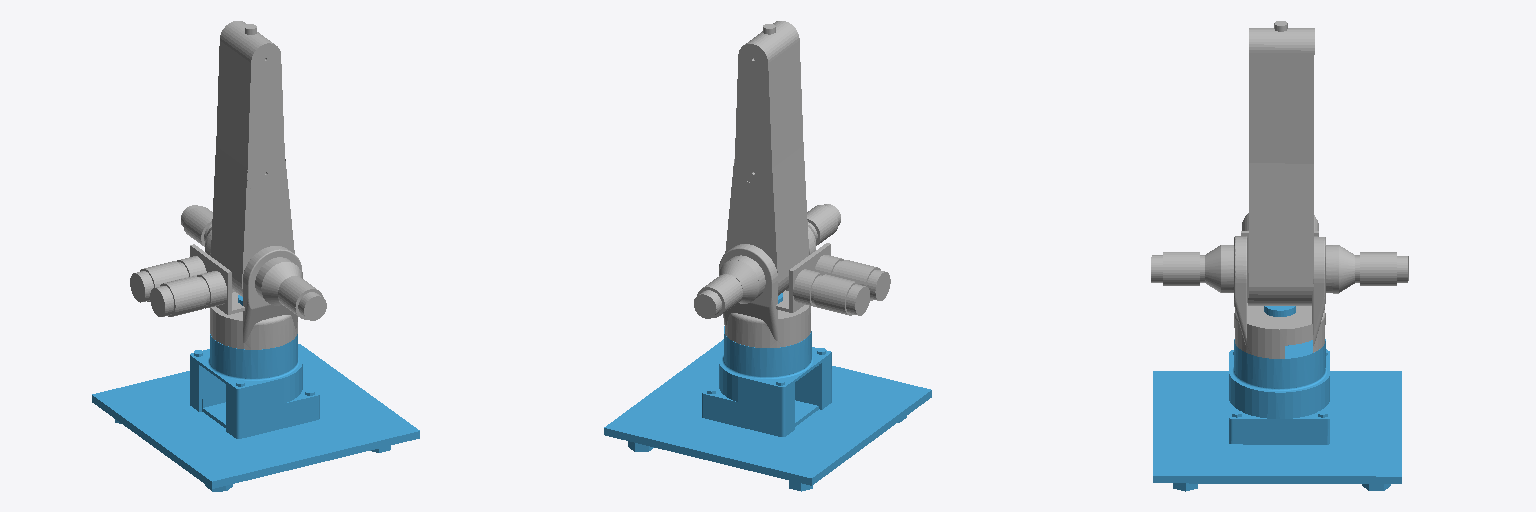
URDF robot description (RTB):
<?xml version="1.0"?>
<!-- roslaunch urdf_tutorial display.launch model:='$(find robotic_arm)/urdf/robotic.urdf'-->

<robot name="RTB">
    <link name="World"/>
    <!--BASE LINK-->
        <link name="base_link">
            <visual>
                <geometry>
                    <mesh filename="package://robotic_arm/stl/base_link.stl" scale="0.01 0.01 0.01" />
                </geometry>

                <material name="Black"/>
                <origin xyz="-1.9 1.85 0.0" rpy="7.85 0 0"/>
            </visual>
 
            <collision>
                <geometry>
                    <mesh filename="package://robotic_arm/stl/base_link.stl" scale="0.01 0.01 0.01" />
                </geometry>
                <origin xyz="-1.9 1.85 0.0" rpy="7.85 0 0"/>
            </collision>
            <inertial>
                <mass value="1"/>
                <origin xyz="-1.9 1.85 0.0" rpy="7.85 0 0"/>
                <inertia ixx="0.0" izz="0.0" iyy="0.0" ixy="0.0" ixz="0.0"  iyz="0.0" /> 
                
            </inertial>
        </link>
 
            <joint name="base_link" type="fixed">
                <parent link="World"/>
                <child link="base_link"/>
            </joint>
     <!--ONE LINK-->
        <link name="One">
            <visual>
                <geometry>
                    <mesh filename="package://robotic_arm/stl/link1.stl" scale="0.01 0.01 0.01" />
                </geometry>

                <material name="Silver">
                <color rgba ="0.75 0.75 0.75 1.0"/>
                </material>
                <!-- Its the relation between joint and the body in distance -->

                <origin xyz="-1.95 -1.98 0" rpy="7.85 0 7.85"/>
            </visual>
 
            <collision>
                <geometry>
                    <mesh filename="package://robotic_arm/stl/link1.stl" scale="0.01 0.01 0.01" />
                </geometry>
                <origin xyz="-1.95 -1.98 0" rpy="7.85 0 7.85"/>
            </collision>
            <inertial>
                <mass value="1"/>
                <origin xyz="-1.95 -1.98 0" rpy="7.85 0 7.85"/>
                <inertia ixx="0.0" izz="0.0" iyy="0.0" ixy="0.0" ixz="0.0"  iyz="0.0" /> 
            </inertial>
        </link>
 
            <joint name="One" type="revolute">
                <parent link="base_link" />
                <child link="One" />
                <limit effort="30" velocity="1.0" lower="-3.14" upper="3.14" />
                <origin xyz="0 0 1.79" rpy="0 0 0" />
                <axis xyz="0 0 1" />
            </joint>   

<!--Two LINK -->
        <link name="Two">
            <visual>
                <geometry>
                    <mesh filename="package://robotic_arm/stl/link2.stl" scale="0.01 0.01 0.01" />
                </geometry>

                <material name="Silver">
                <color rgba ="0.75 0.75 0.75 1.0"/>
                </material>
                <origin xyz="-0.5 0.5 -0.56" rpy="7.85 0.0 0"/>
                <!-- Its the relation between joint and the body in distance -->
            </visual>
 
            <collision>
                <geometry>
                    <mesh filename="package://robotic_arm/stl/link2.stl" scale="0.01 0.01 0.01" />
                </geometry>
                <origin xyz="-0.5 0.5 -0.56" rpy="7.85 0.0 0"/>
            </collision>
            <inertial>
                <mass value="1"/>
                <origin xyz="-0.5 0.5 -0.56" rpy="7.85 0.0 0"/> 
                <inertia ixx="0.0" izz="0.0" iyy="0.0" ixy="0.0" ixz="0.0"  iyz="0.0" /> 
            </inertial>
        </link>
 
        <joint name="Two" type="revolute">
            <parent link="One" />
            <child link="Two" />
            <limit effort="30" velocity="1.0" lower="-3.14" upper="3.14" />
            <origin xyz="0 0 1.2" rpy="0 0 0" />
            <axis xyz="0 1 0" />
        </joint>

     <!--Three LINK-->
        <link name="Three">
            <visual>
                <geometry>
                    <mesh filename="package://robotic_arm/stl/link3.stl" scale="0.01 0.01 0.01" />
                </geometry>

                <material name="Silver">
                <color rgba ="0.75 0.75 0.75 1.0"/>
                </material>
                <origin xyz="-0.4 0.505 -0.38" rpy="7.85 0 0"/>
                <!-- Its the relation between joint and the body in distance -->
            </visual>
 
            <collision>
                <geometry>
                    <mesh filename="package://robotic_arm/stl/link3.stl" scale="0.01 0.01 0.01" />
                </geometry>
                <origin xyz="-0.4 0.505 -0.38" rpy="7.85 0 0"/>
            </collision>
            <inertial>
                <mass value="1"/>
                <origin xyz="-0.4 0.505 -0.38" rpy="7.85 0 0"/> 
                <inertia ixx="0.0" izz="0.0" iyy="0.0" ixy="0.0" ixz="0.0"  iyz="0.0" /> 
            </inertial>
    </link>
 
        <joint name="Three" type="revolute">
            <parent link="Two" />
            <child link="Three" />
            <limit effort="30" velocity="1.0" lower="-3.14" upper="3.14" />
            <origin xyz="0 0 1.8" rpy="0 0 0" />
            <axis xyz="0 1 0" />
        </joint>

     <!--Griper LINK-->
        <link name="Griper">
            <visual>
                <geometry>
                    <cylinder radius ="0.1" length="0.1" />
                </geometry>

                <material name="Silver">
                <color rgba ="0.75 0.75 0.75 1.0"/>
                </material>
                <origin xyz="0 0 0" rpy="0 0 0"/>
                <!-- Its the relation between joint and the body in distance -->
            </visual>
 
            <collision>
                <geometry>
                    <cylinder radius ="0.01" length="0.01" />
                </geometry>
                <origin xyz="0 0 0" rpy="0 0 0"/>
            </collision>
            <inertial>
                <mass value="1"/>
                <origin xyz="0 0 0" rpy="0 0 0"/> 
                <inertia ixx="0.0" izz="0.0" iyy="0.0" ixy="0.0" ixz="0.0"  iyz="0.0" /> 
            </inertial>
    </link> 
 
        <joint name="Griper" type="revolute">
            <parent link="Three" />
            <child link="Griper" />
            <limit effort="30" velocity="1.0" lower="-3.14" upper="3.14" />
            <origin xyz="-0.05 0 2.3" rpy="0 0 0" />
            <axis xyz="0 1 0" />
        </joint>   

</robot>

--- Facts derived from the render (not from the file) ---
The picture shows the robot from 3 angles, left to right: view 1: azimuth 30°, elevation 25°; view 2: azimuth 150°, elevation 25°; view 3: azimuth 270°, elevation 25°; orthographic projection.
Model RTB with 6 links and 5 joints (4 revolute, 1 fixed), rooted at World, posed every joint at zero.
Links seen in each view (by area): view 1: base_link, One, Three, Two; view 2: base_link, One, Three, Two; view 3: base_link, One, Two, Three.
Link boxes in pixels (x1,y1,x2,y2): base_link: (92, 295, 419, 491); One: (130, 205, 326, 349); Three: (216, 21, 284, 193); Two: (211, 146, 294, 296); base_link: (604, 293, 931, 491); One: (694, 204, 890, 347); Three: (735, 21, 803, 183); Two: (725, 146, 808, 295); base_link: (1153, 306, 1401, 491); One: (1151, 213, 1408, 358); Two: (1248, 163, 1313, 305); Three: (1249, 28, 1314, 163).
Bounding box of the posed robot: 3.87 × 3.95 × 7.14 m (x, y, z).
4 mesh visuals loaded from 4 distinct referenced files (4 binary STL).